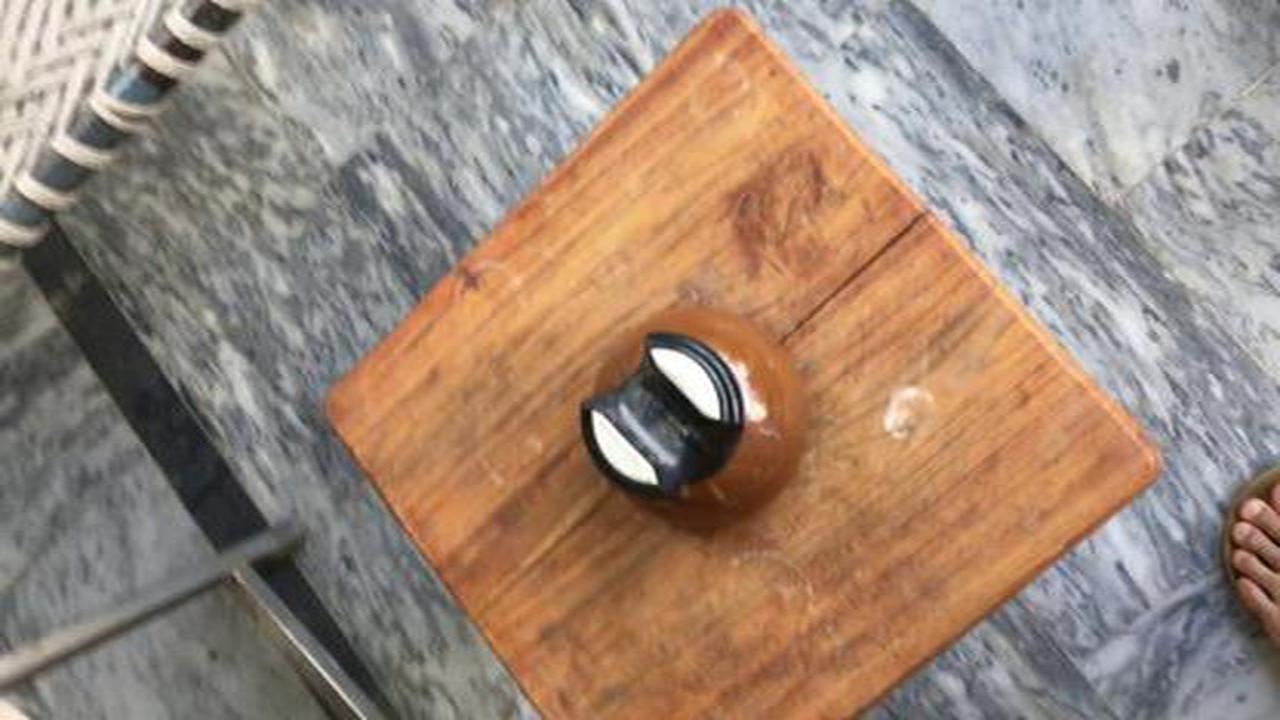insulator_pin: (557, 293, 841, 541)
